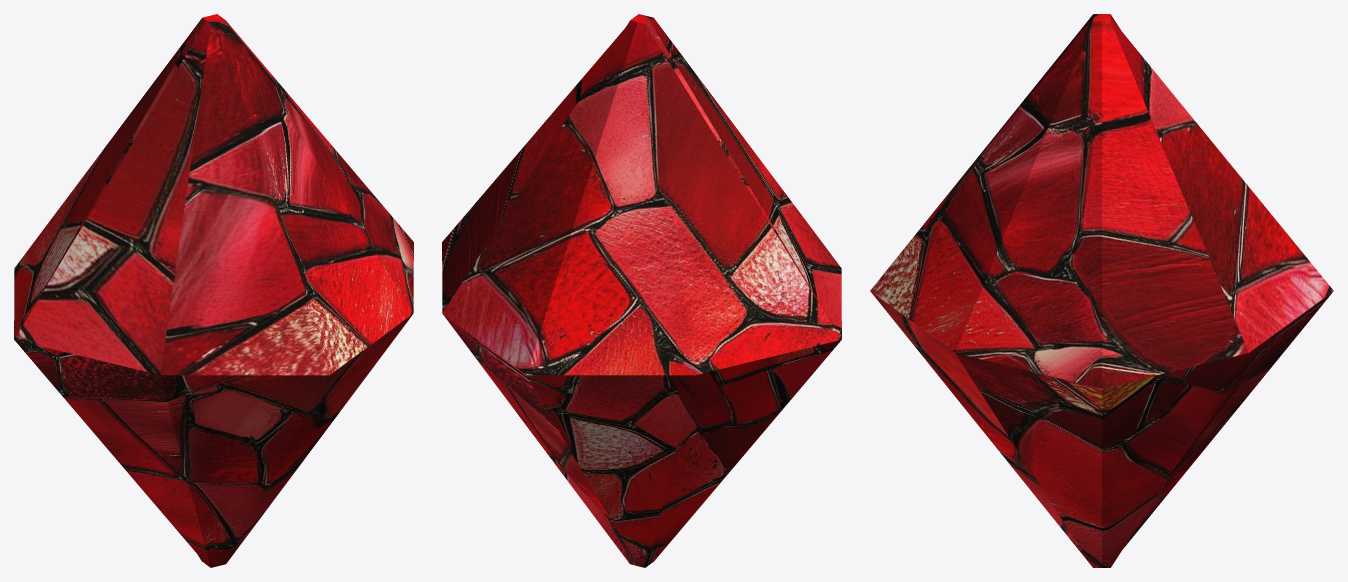
File: gemstone2RedCompressed.glb
The picture shows the model from 3 angles, left to right: view 1: azimuth 30°, elevation 25°; view 2: azimuth 150°, elevation 25°; view 3: azimuth 270°, elevation 25°; orthographic projection.
Visible parts, largest first — view 1: gemstone1; view 2: gemstone1; view 3: gemstone1.
Part boxes in pixels (bbox=[...]): gemstone1: bbox=[14, 14, 413, 567]; gemstone1: bbox=[442, 14, 841, 567]; gemstone1: bbox=[870, 14, 1333, 567].
Size of the model in its own units: 1 by 1.3 by 1.
Materials: 1 (1 with a texture image).
